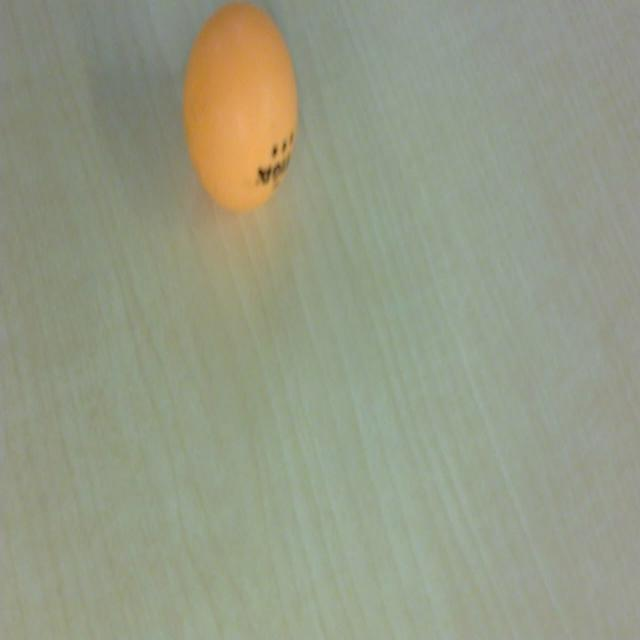ball: (180, 2, 299, 217)
